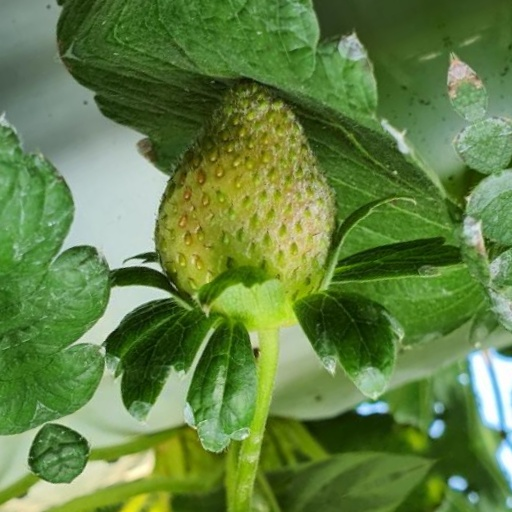Powdery Mildew Fruit: (160, 220, 283, 423)
